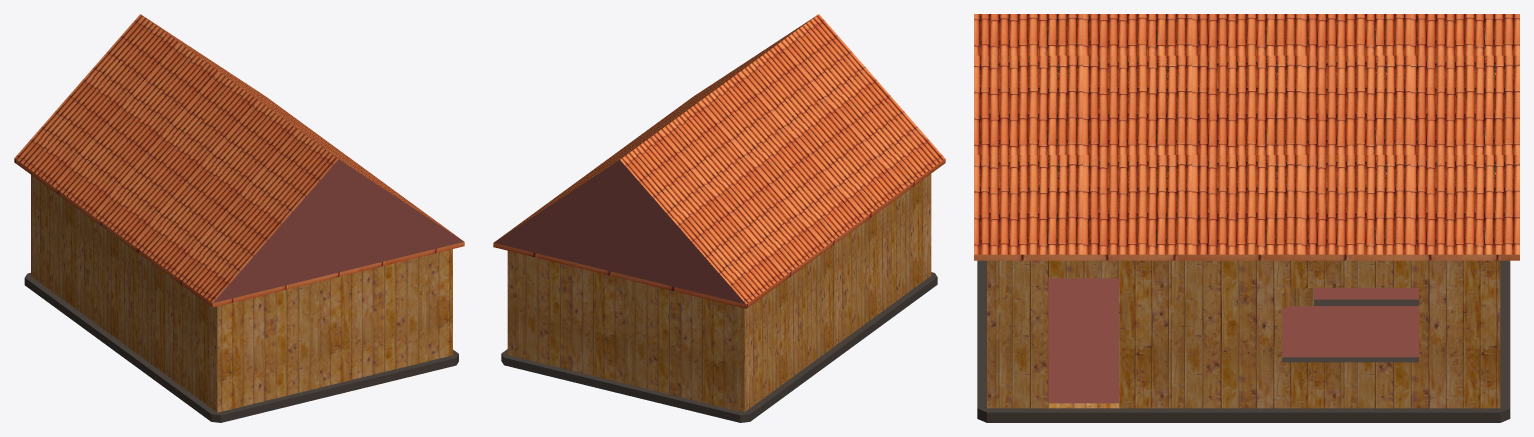
File: House1.fbx
The picture shows the model from 3 angles, left to right: view 1: azimuth 30°, elevation 25°; view 2: azimuth 150°, elevation 25°; view 3: azimuth 270°, elevation 25°; orthographic projection. The views are drawn at different scales.
Parts seen in each view (by area): view 1: Cube.001; view 2: Cube.001; view 3: Cube.001.
Boxes of the visible parts, bbox=[...] form: Cube.001: bbox=[14, 14, 464, 422]; Cube.001: bbox=[493, 14, 945, 422]; Cube.001: bbox=[974, 14, 1519, 422].
Bounding box in the file's own units: 1024 × 918 × 1397.
